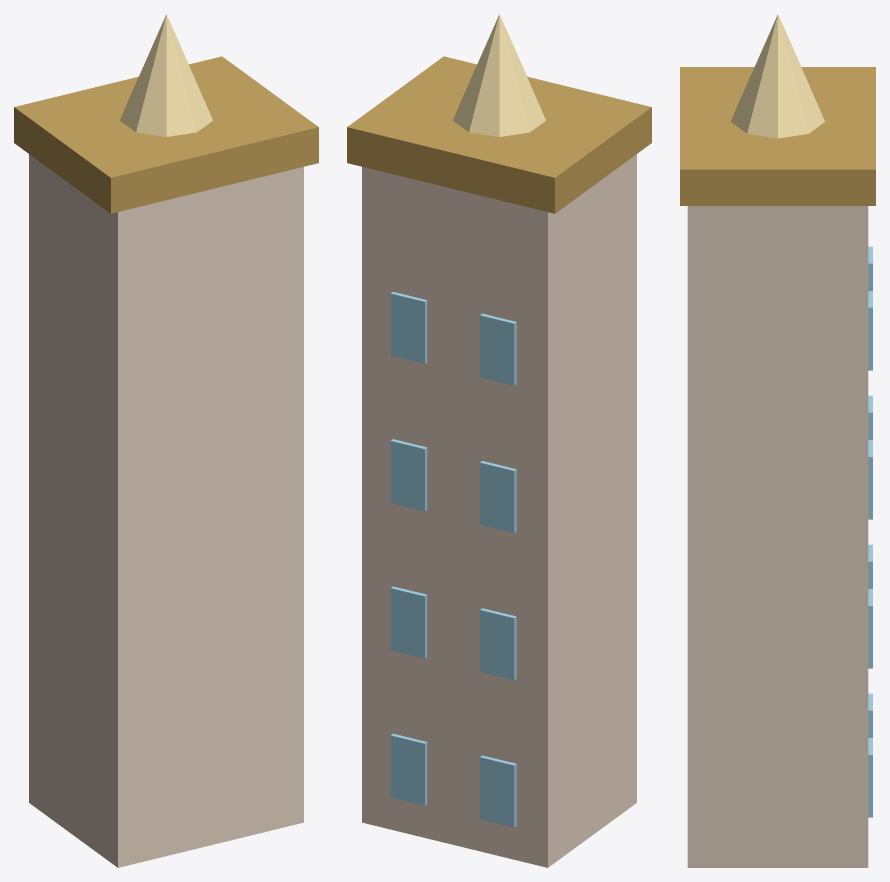
Rendered from stage_3_highrise.glb.
The picture shows the model from 3 angles, left to right: view 1: azimuth 30°, elevation 25°; view 2: azimuth 150°, elevation 25°; view 3: azimuth 270°, elevation 25°; orthographic projection.
Visible parts, largest first — view 1: BUILDING_BODY, ROOFTOP, ROOF_SPIRE; view 2: BUILDING_BODY, ROOFTOP, ROOF_SPIRE, WINDOW_F0_1, WINDOW_F1_1, WINDOW_F2_1, WINDOW_F3_1, WINDOW_F0_-1, WINDOW_F1_-1, WINDOW_F3_-1, WINDOW_F2_-1; view 3: BUILDING_BODY, ROOFTOP, ROOF_SPIRE, WINDOW_F0_1, WINDOW_F1_1, WINDOW_F2_1, WINDOW_F3_1.
Boxes of the visible parts, x1,y1,x2,y2 form: BUILDING_BODY: (29, 154, 303, 867); ROOFTOP: (14, 56, 318, 213); ROOF_SPIRE: (120, 14, 212, 136); BUILDING_BODY: (362, 154, 636, 867); ROOFTOP: (347, 56, 651, 213); ROOF_SPIRE: (453, 14, 545, 136); WINDOW_F0_1: (390, 733, 427, 805); WINDOW_F1_1: (390, 586, 427, 658); WINDOW_F2_1: (390, 439, 427, 511); WINDOW_F3_1: (390, 292, 427, 363); WINDOW_F0_-1: (480, 755, 516, 827); WINDOW_F1_-1: (480, 608, 516, 680); WINDOW_F3_-1: (480, 313, 516, 385); WINDOW_F2_-1: (480, 461, 516, 532); BUILDING_BODY: (687, 206, 868, 867); ROOFTOP: (680, 67, 875, 205); ROOF_SPIRE: (731, 14, 824, 138); WINDOW_F0_1: (868, 738, 872, 817); WINDOW_F1_1: (868, 589, 872, 668); WINDOW_F2_1: (868, 440, 872, 519); WINDOW_F3_1: (868, 291, 872, 370).
Bounding box in the file's own units: 0.665 × 2.44 × 0.5355.
